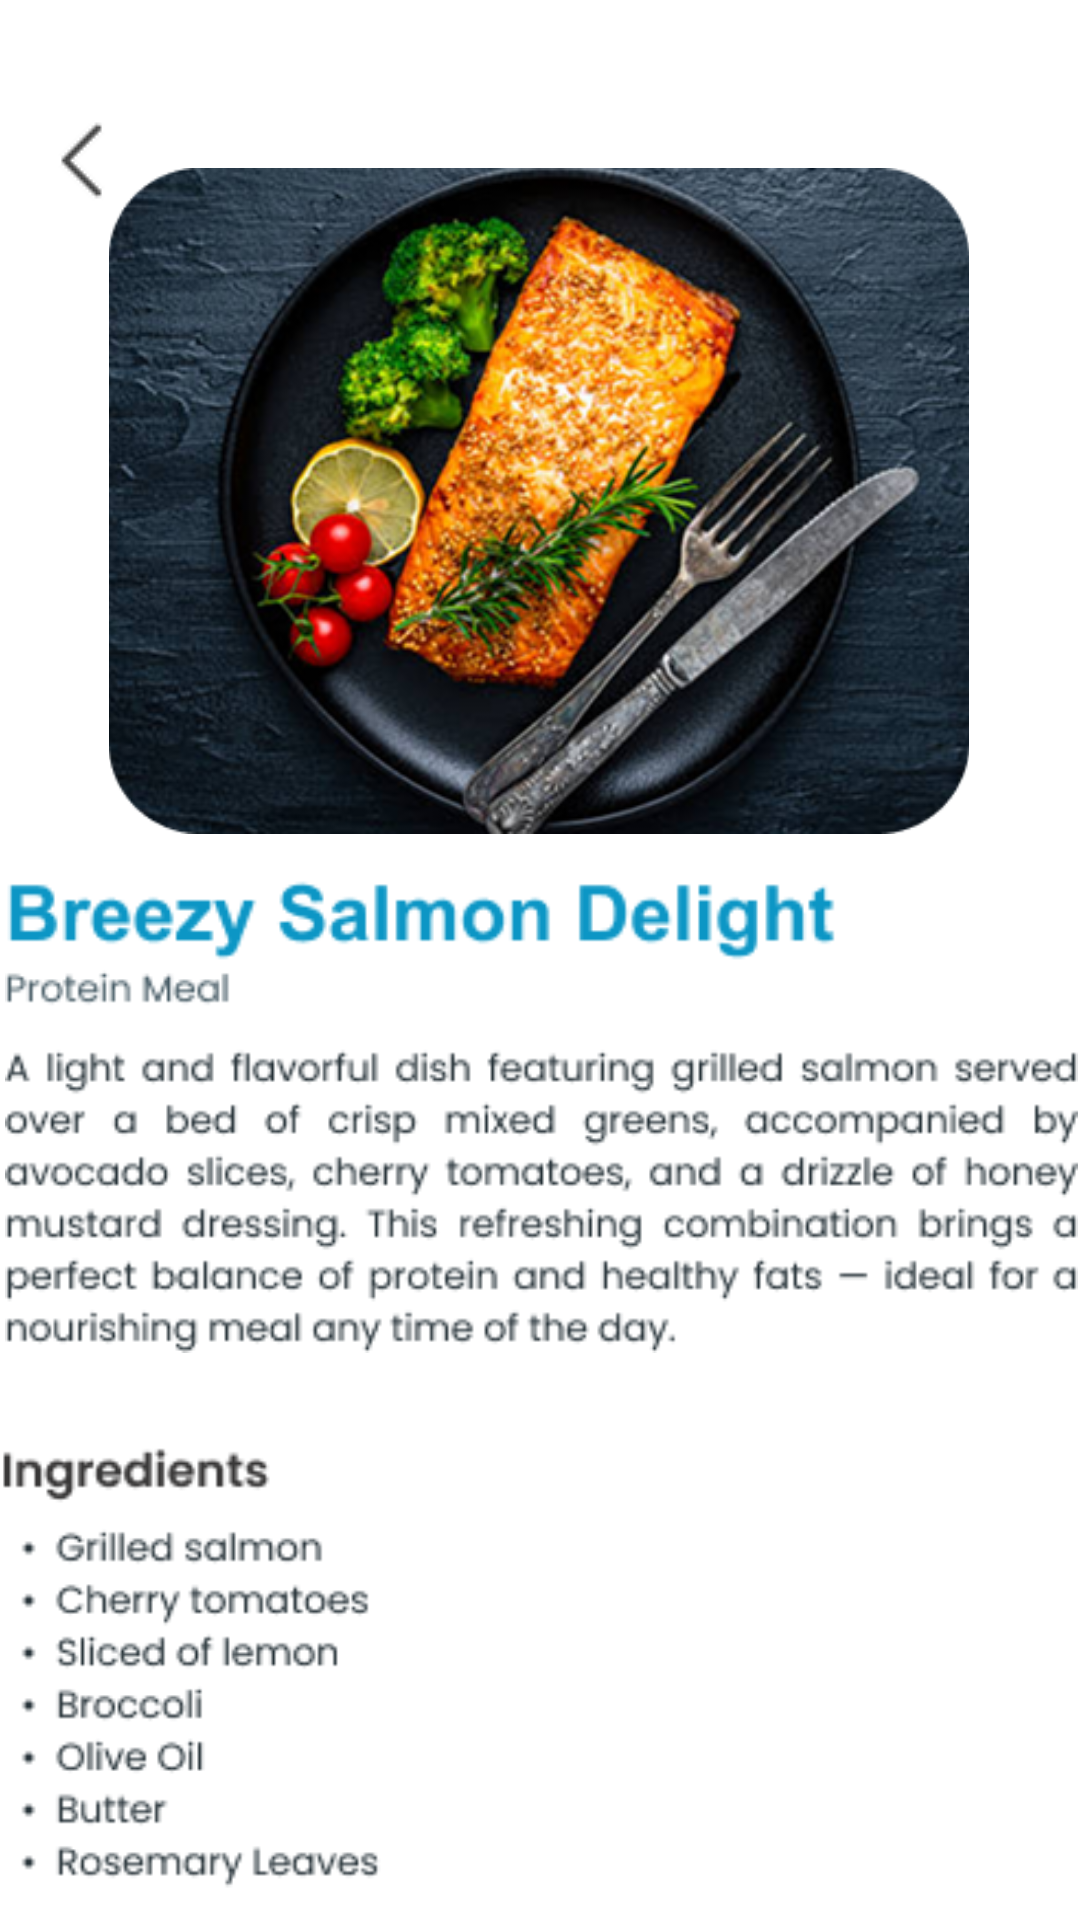

Point at icon controls on the screen. Image size 1080px x 1920px, points as [x,y].
back: [81,160]
